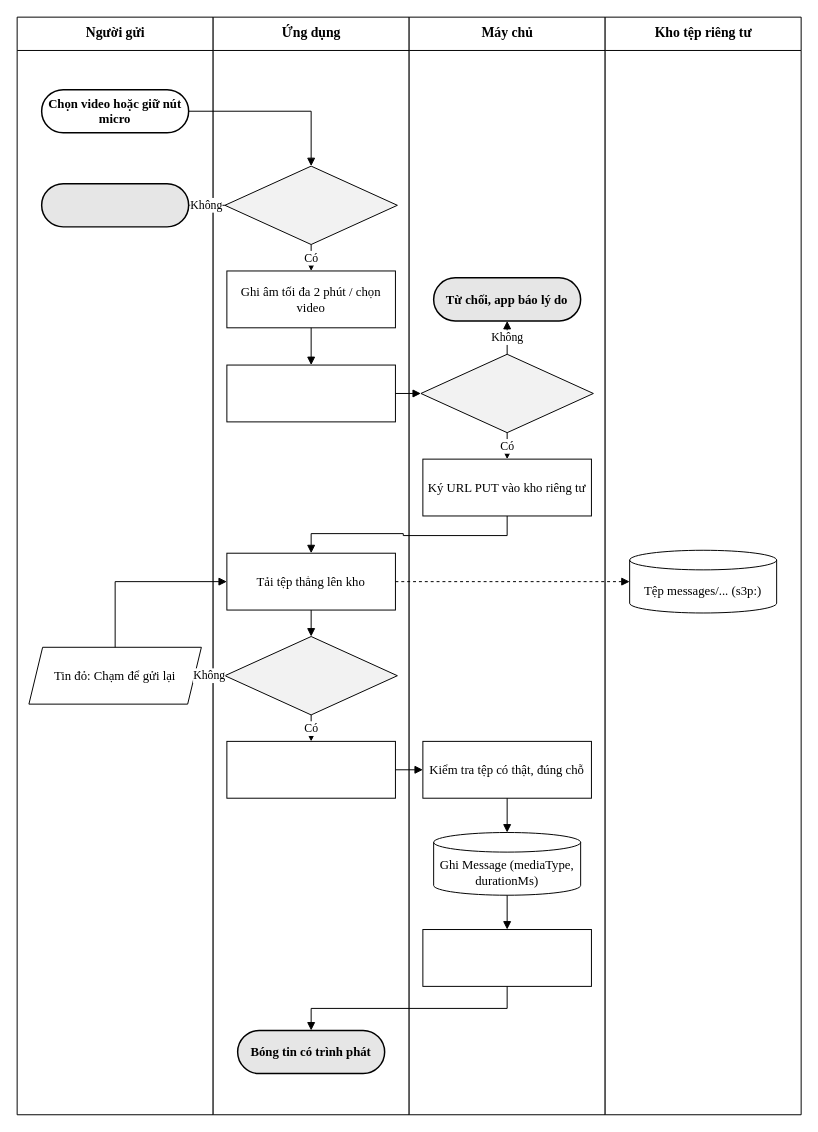
The diagram is 818 pixels wide and 1132 high, and some of its shapes have lost their labels. The shapes that lost their labels are listed below. From the top down, each one's box as (x1, y1, x2, y2) in pixels, then its label:
(40, 183, 189, 227): Hướng dẫn mở Cài đặt
(224, 165, 397, 245): Được cấp quyền?
(226, 364, 395, 422): Xin URL tải lên
(420, 353, 593, 433): Loại, dung lượng, quyền gửi hợp lệ?
(224, 636, 397, 715): Tải xong?
(226, 740, 395, 798): Gửi tin kèm storageKey, clientId
(422, 929, 591, 986): Socket message:new, push “Đã gửi video”
